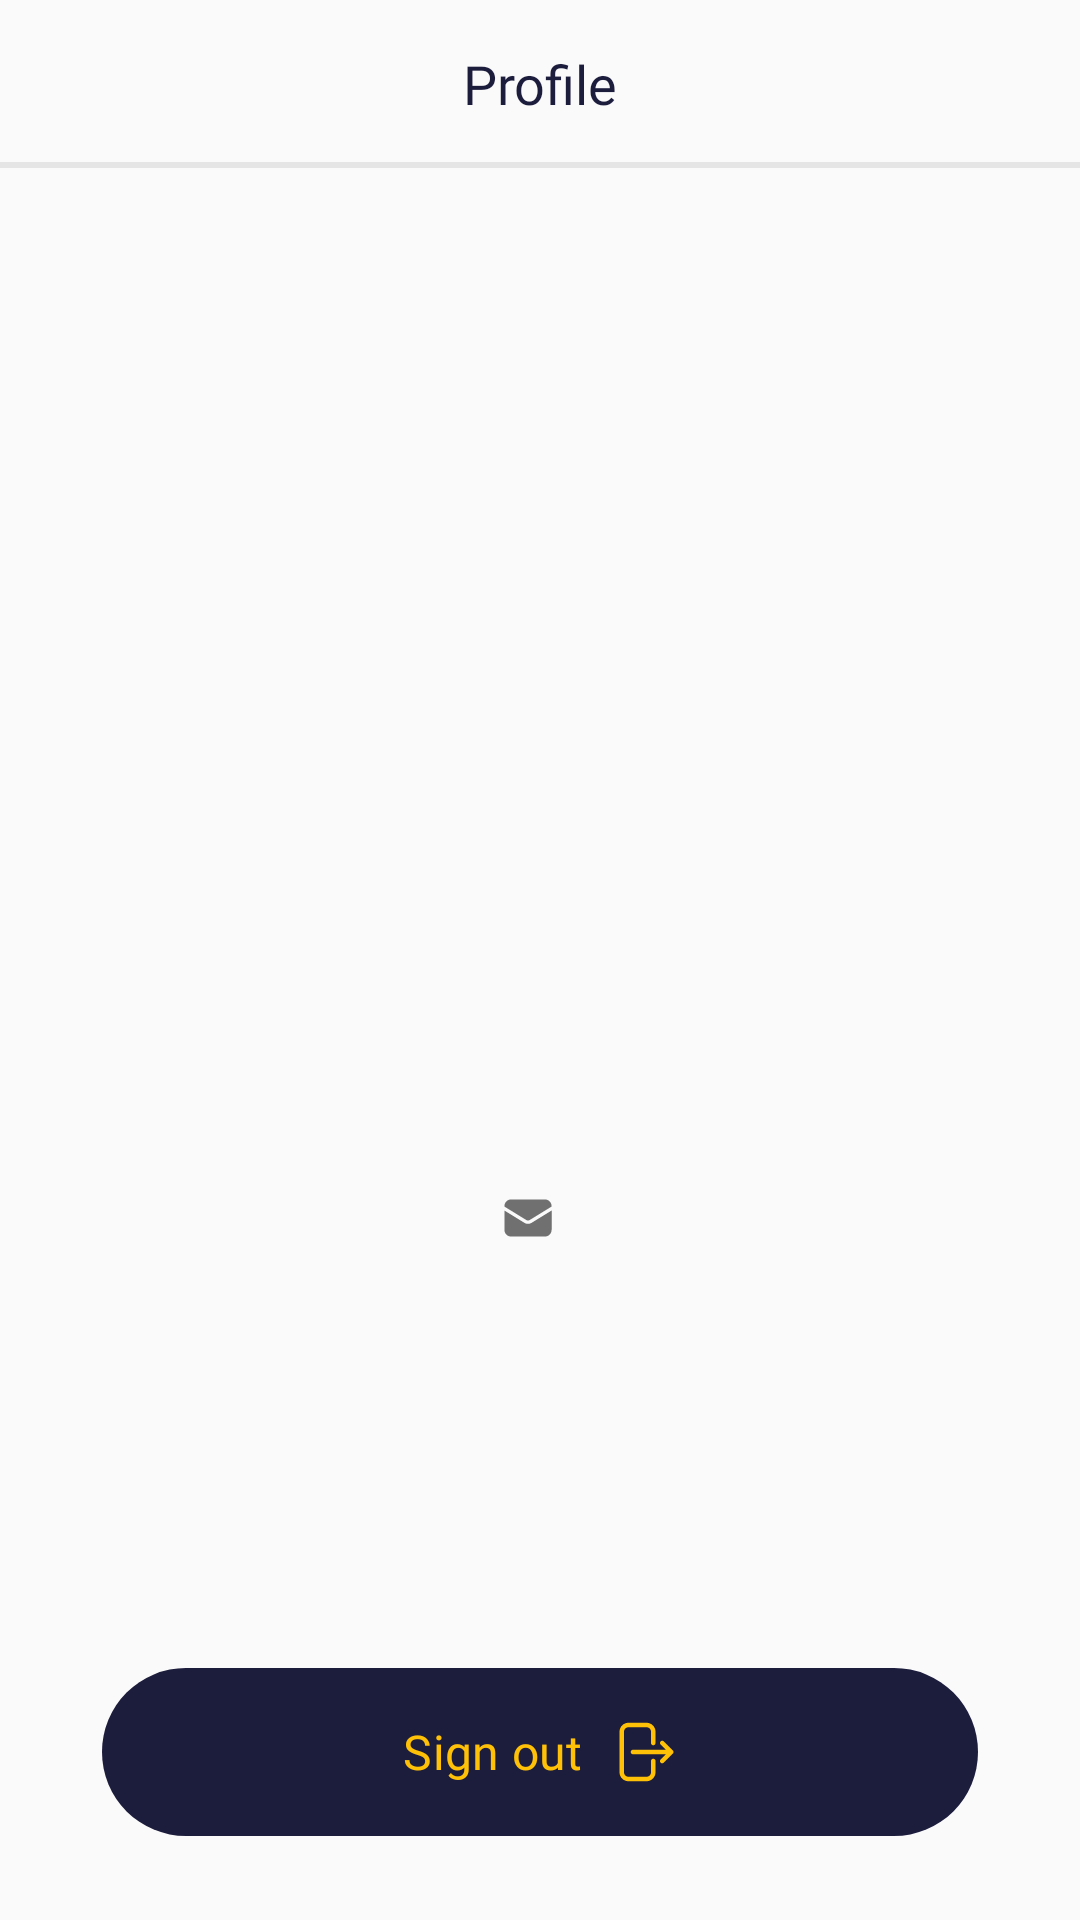

Where to tap for icons on this 1080 × 1920 app screen, as [x,y]:
email: [528,1218]
